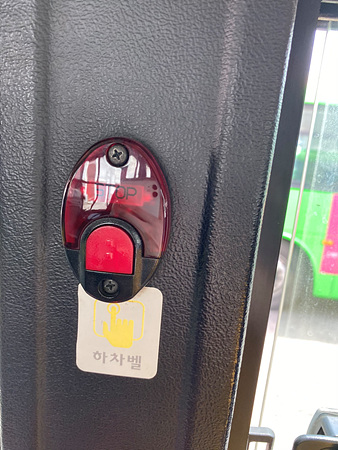bell: (59, 135, 171, 302)
